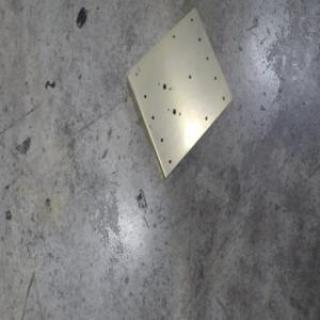MetalSheettrack_idkeyframe: (124, 5, 232, 182)
